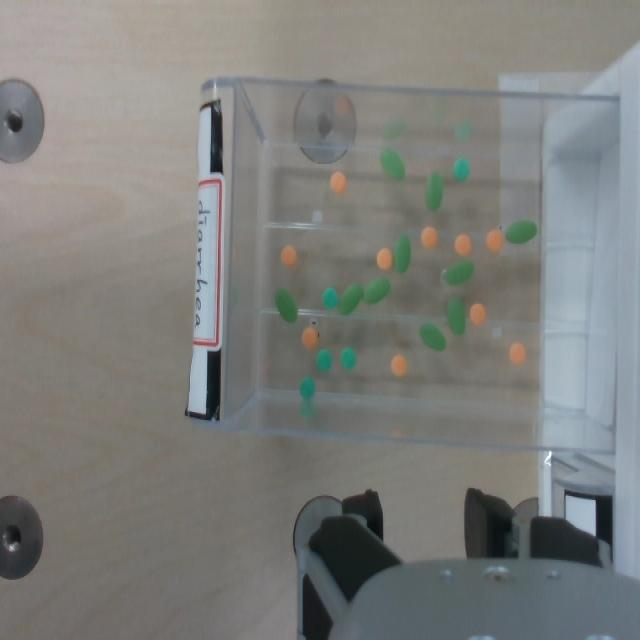famodine: (340, 347, 358, 370), (454, 157, 471, 179), (322, 286, 338, 309), (453, 157, 469, 180), (340, 347, 356, 369), (322, 287, 338, 308), (300, 376, 314, 400), (317, 349, 332, 371), (316, 349, 331, 371), (300, 377, 315, 397)
otillen_tab: (503, 219, 538, 245), (338, 280, 364, 315), (442, 258, 475, 285), (363, 276, 392, 305), (419, 322, 447, 351), (338, 283, 363, 315), (504, 220, 537, 244), (446, 296, 466, 335), (425, 170, 444, 211), (380, 149, 405, 180), (380, 148, 405, 179), (275, 288, 297, 323), (443, 260, 474, 284), (363, 277, 390, 304), (420, 323, 446, 351), (275, 288, 297, 321), (447, 297, 466, 335), (393, 233, 411, 272), (426, 171, 443, 211), (393, 235, 410, 272)
samsung_octylonium_tab: (486, 228, 503, 252), (468, 303, 486, 325), (390, 353, 407, 376), (420, 225, 437, 248), (454, 233, 471, 256), (376, 247, 392, 271), (454, 233, 471, 255), (509, 342, 526, 364), (280, 245, 297, 267), (421, 227, 438, 248), (509, 343, 526, 364), (281, 245, 297, 267), (470, 303, 486, 325), (391, 355, 407, 377), (330, 171, 346, 193), (377, 248, 392, 270), (487, 229, 502, 251), (303, 327, 318, 349), (302, 327, 317, 349), (331, 171, 346, 192)
